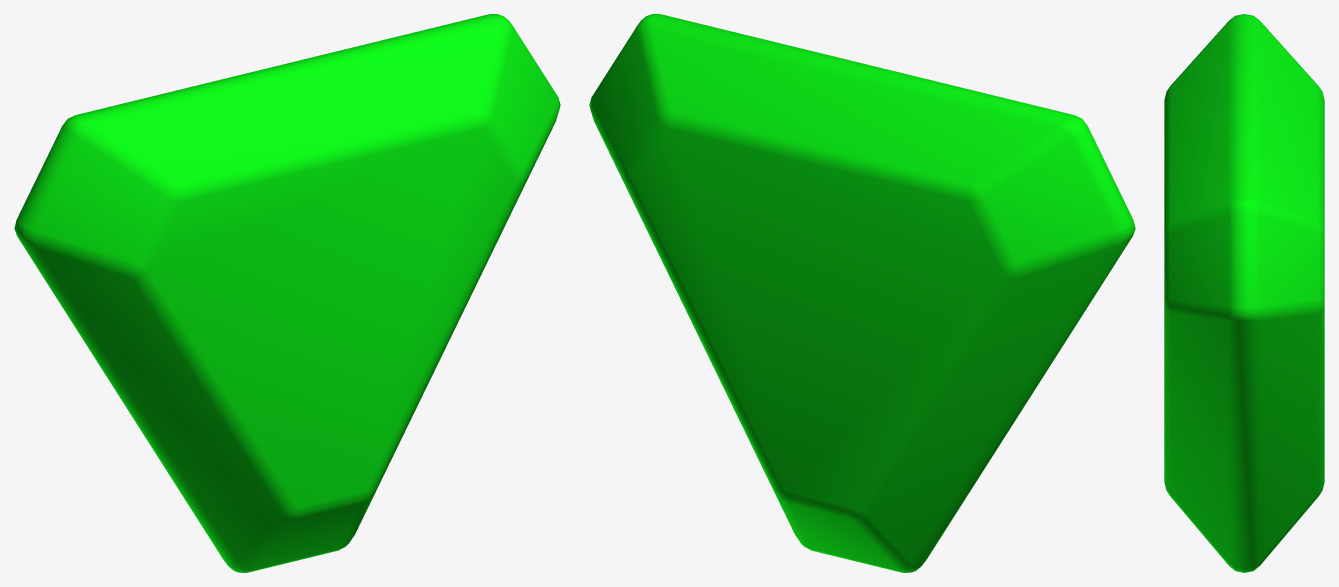
Rendered from Treasure_Gem1.fbx.
3 renders of one model, left to right at view 1: azimuth 30°, elevation 25°; view 2: azimuth 150°, elevation 25°; view 3: azimuth 270°, elevation 25°, orthographic. The views are drawn at different scales.
Visible parts, largest first — view 1: Gem1; view 2: Gem1; view 3: Gem1.
Boxes of the visible parts, x1,y1,x2,y2 form: Gem1: (14, 14, 560, 572); Gem1: (589, 14, 1135, 572); Gem1: (1164, 14, 1324, 572).
Bounding box in the file's own units: 131 × 114 × 37.47.
